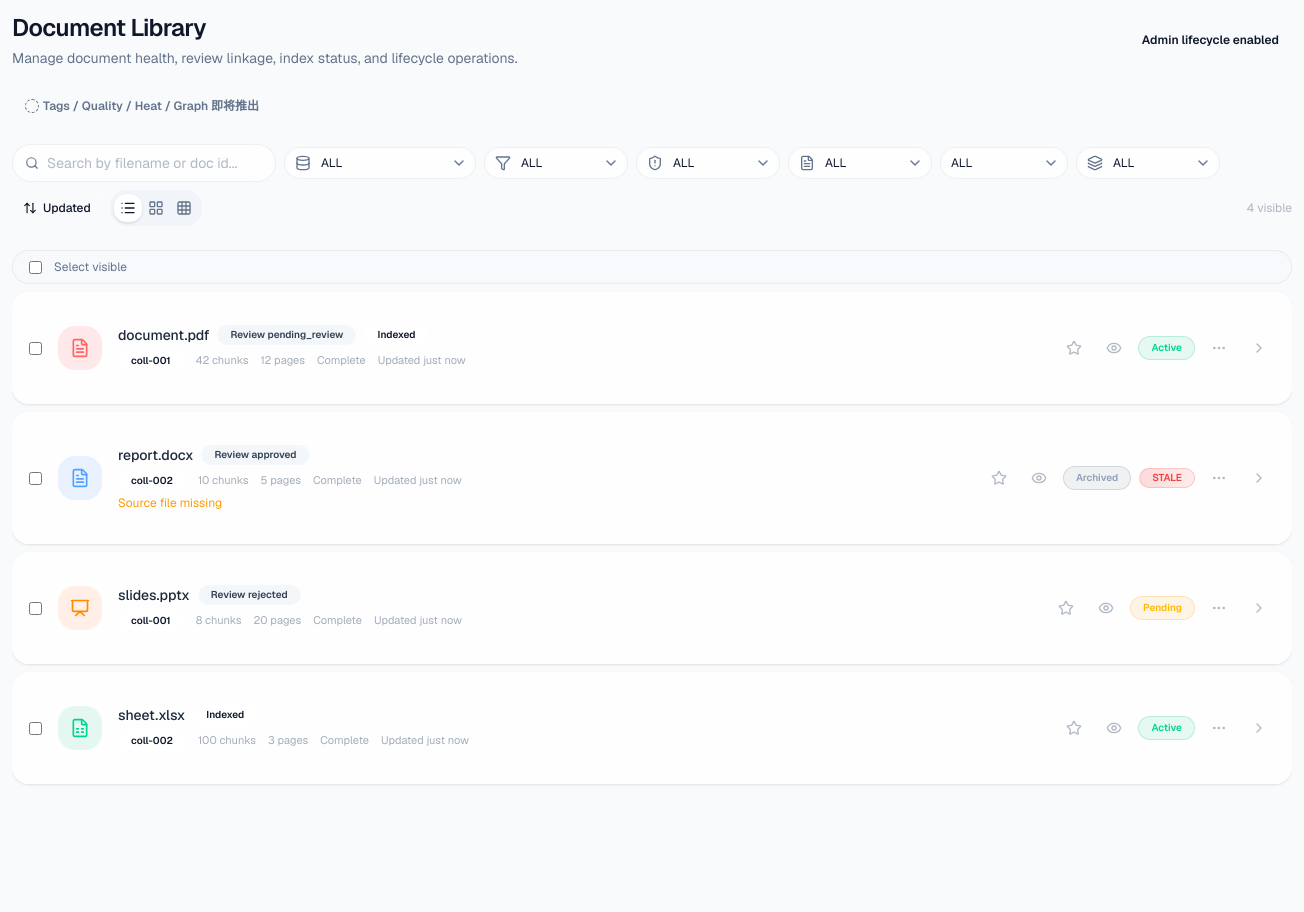
DocumentsPage › Filters › filters by state
Expected: the link "document.pdf" is shown, [118,325,209,345]
Click the 2nd dropdown labelled "ALL ▼". click: (556, 163)
box: [484,147,628,179]
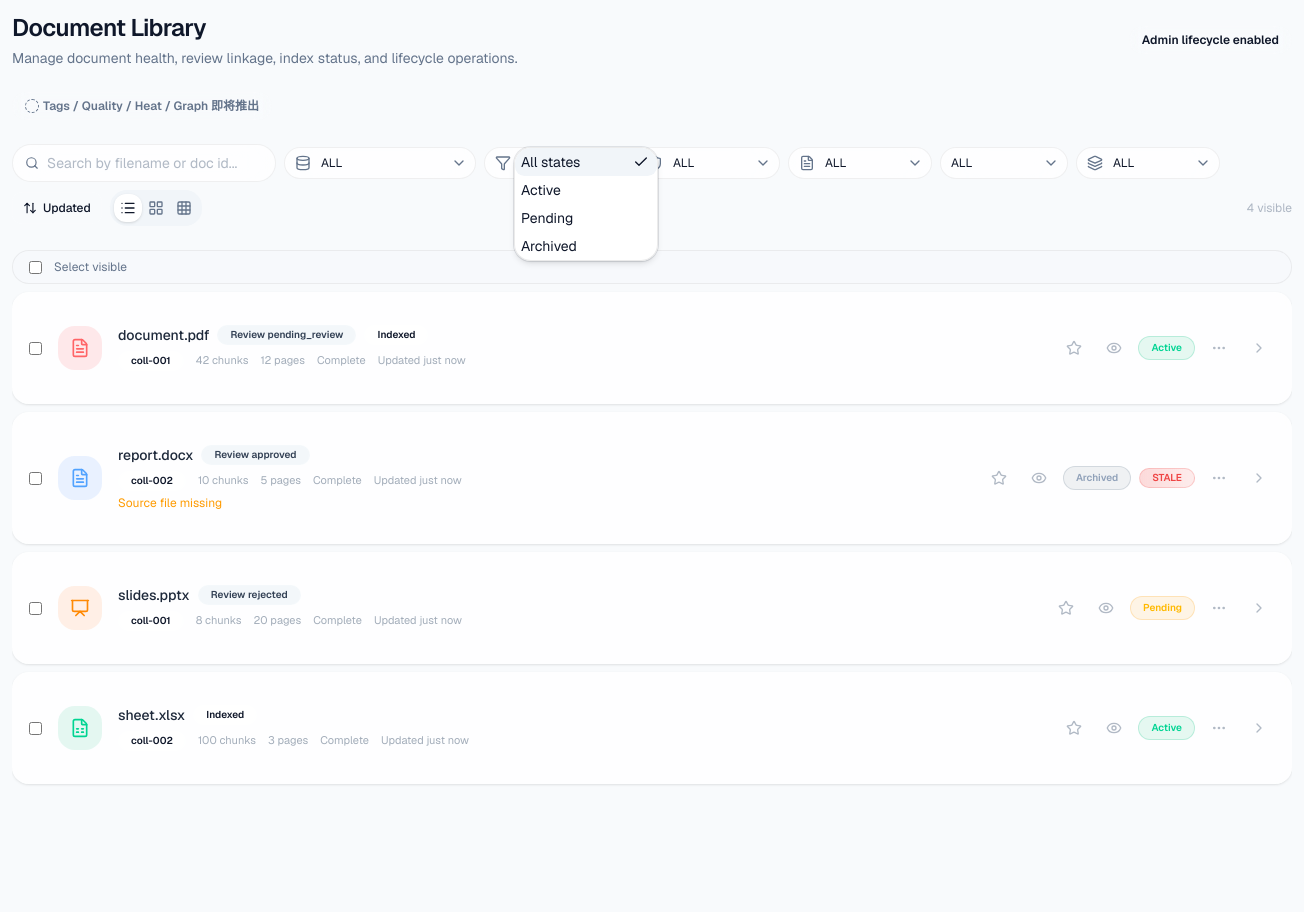
Expected: the option "All states" is shown, [515,148,657,176]
Expected: the option "Archived" is shown
Click the option "Archived". click: (549, 246)
box: [521,237,577,255]
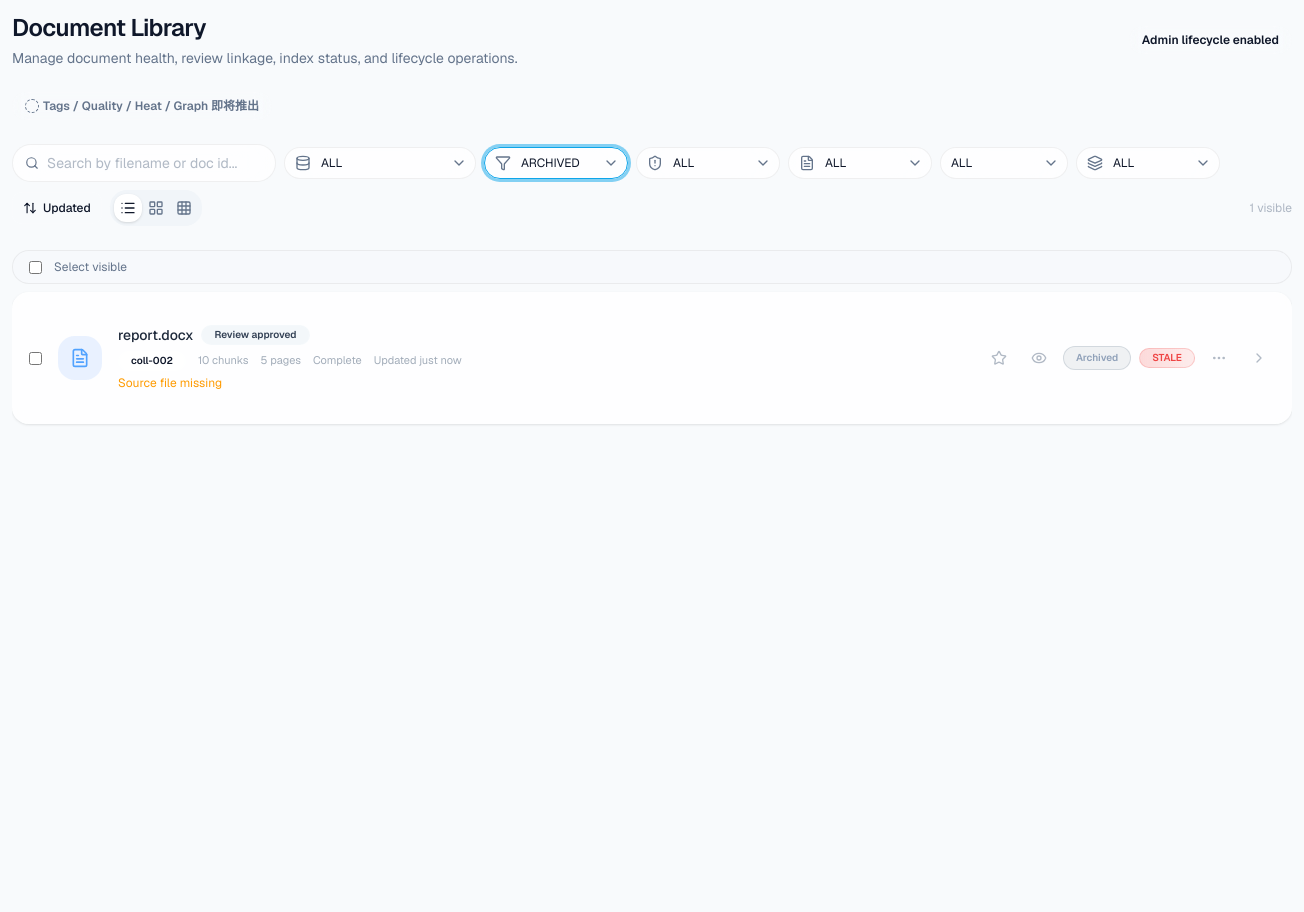
Expected: the link "report.docx" is shown, [118,325,193,345]
Expected: the link "document.pdf" is gone
